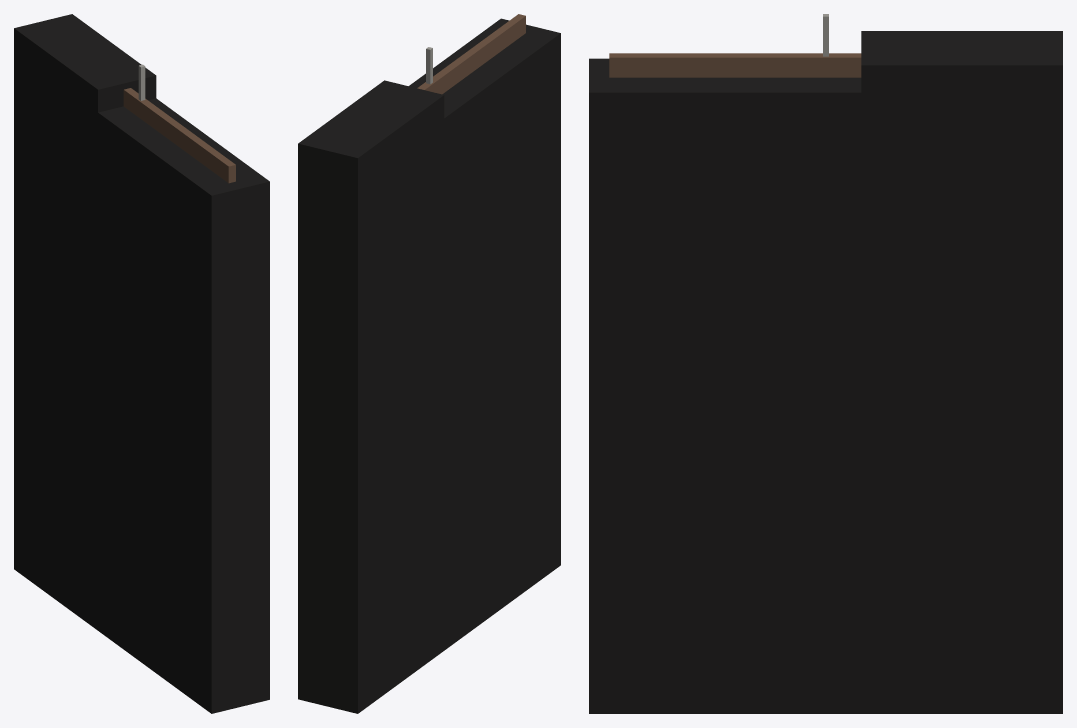
File: hoodie-black-hung.glb
3 views of the same model, side by side, from view 1: azimuth 30°, elevation 25°; view 2: azimuth 150°, elevation 25°; view 3: azimuth 270°, elevation 25° (orthographic). The views are drawn at different scales.
Visible parts, largest first — view 1: rubber, wood; view 2: rubber, wood; view 3: rubber, wood.
Part boxes in pixels (x1=…): rubber: x1=14, y1=14, x2=269, y2=713; wood: x1=123, y1=88, x2=235, y2=183; rubber: x1=298, y1=18, x2=560, y2=713; wood: x1=417, y1=14, x2=525, y2=94; rubber: x1=589, y1=31, x2=1062, y2=713; wood: x1=609, y1=53, x2=861, y2=77.
Size of the model in its own units: 0.08 by 0.746 by 0.47.
